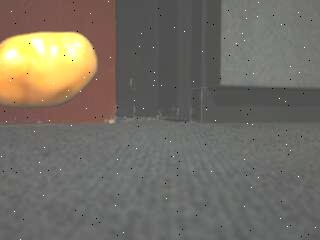Potato: (0, 30, 99, 108)
